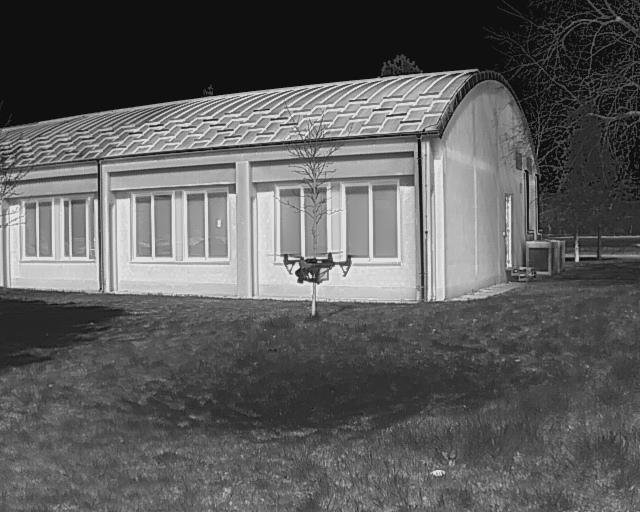drone: (266, 240, 359, 286)
